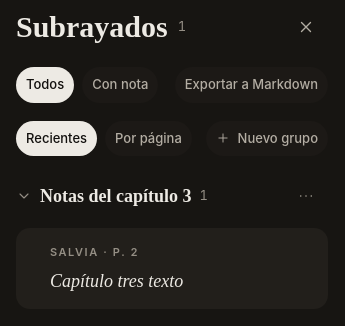
Test: HighlightsPanel groups › folds a section with its toggle, and keeps its cards out of sight
This screenshot has width=345, height=326.
Click the button "Notas del capítulo 3 1": point(148, 196) [16, 179, 280, 213]
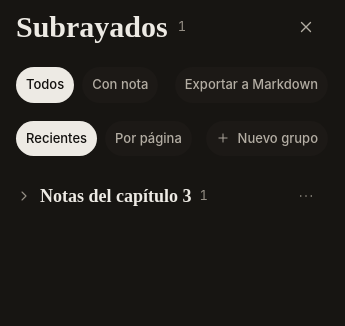
Expected: the button "Notas del capítulo 3 1" is collapsed
Click the button "Notas del capítulo 3 1": point(148, 196) [16, 179, 280, 213]
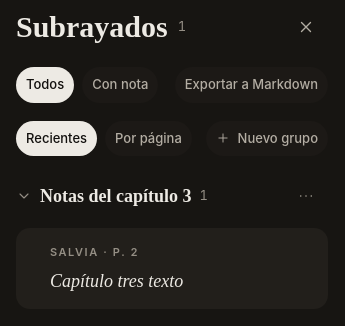
Expected: the button "Notas del capítulo 3 1" is expanded, [16, 179, 280, 213]
